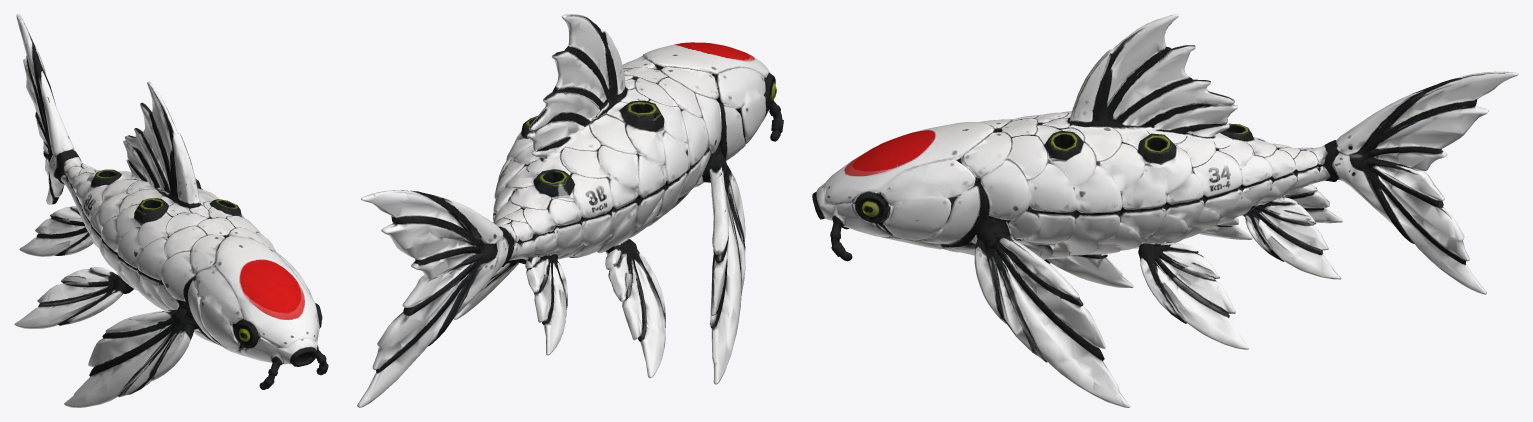
Rendered from fish.glb.
3 views of the same model, side by side, from view 1: azimuth 30°, elevation 25°; view 2: azimuth 150°, elevation 25°; view 3: azimuth 270°, elevation 25° (orthographic). The views are drawn at different scales.
Size of the model in its own units: 1.38 by 1.76 by 3.4.
1 material, 1 textured.
